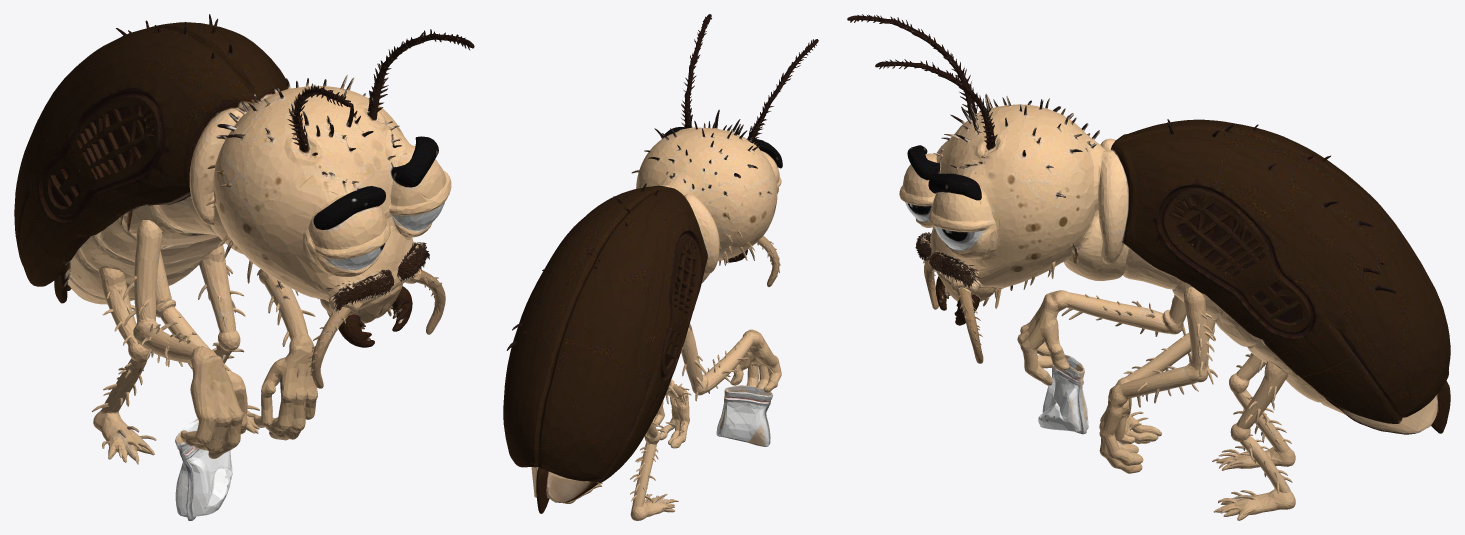
The model's file is doc.glb.
3 renders of one model, left to right at view 1: azimuth 30°, elevation 25°; view 2: azimuth 150°, elevation 25°; view 3: azimuth 270°, elevation 25°, orthographic. The views are drawn at different scales.
Bounding box in the file's own units: 0.7021 × 1.61 × 1.9.
1 material, 1 textured.
